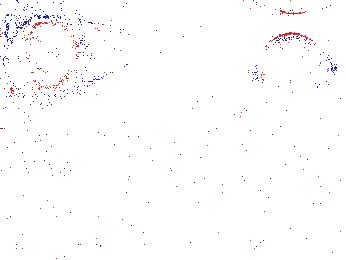moon jellyfish: (8, 17, 84, 106), (56, 26, 138, 86), (256, 32, 334, 89)
